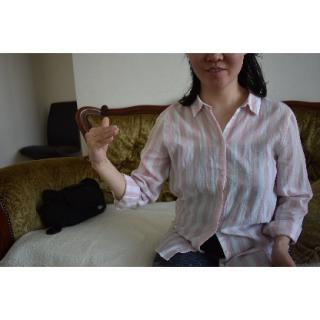KHAA: (80, 115, 123, 166)
